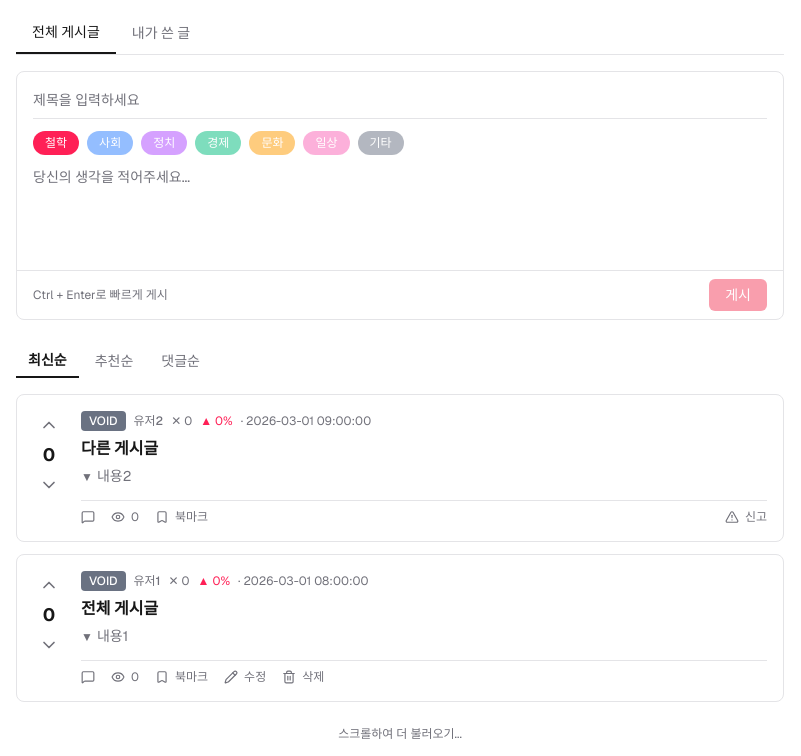
Body - 내가 쓴 게시글 기능 › "전체 게시글" 탭으로 돌아오면 PostForm이 다시 표시되어야 한다
The width and height of the screenshot is (801, 756).
Check: the button "전체 게시글" is shown, box x1=16 y1=12 x2=116 y2=54
Click the button "내가 쓴 글".
click(161, 33)  # box x1=116 y1=12 x2=206 y2=54
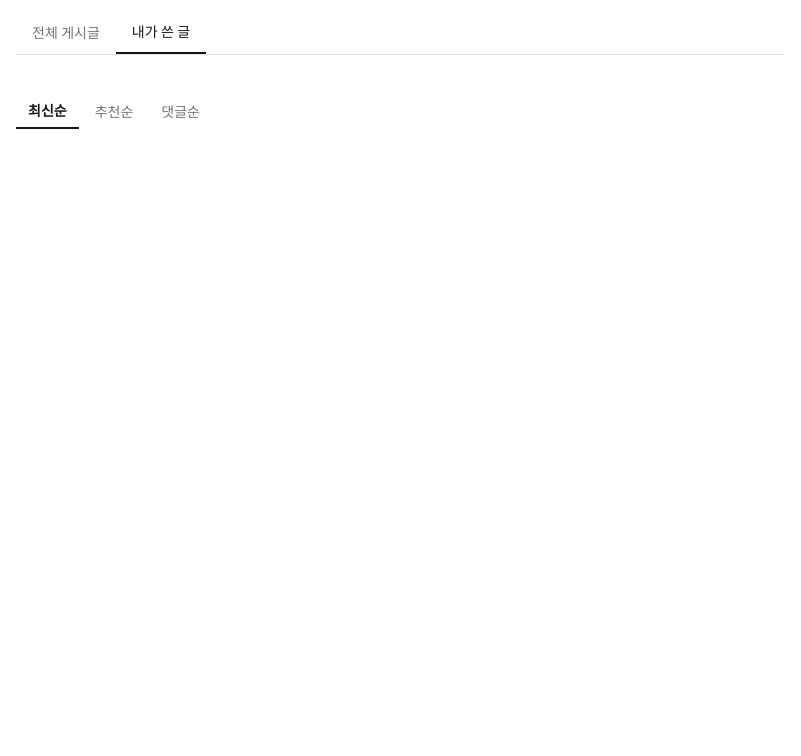
Click the button "전체 게시글".
click(66, 33)  # box x1=16 y1=12 x2=116 y2=54
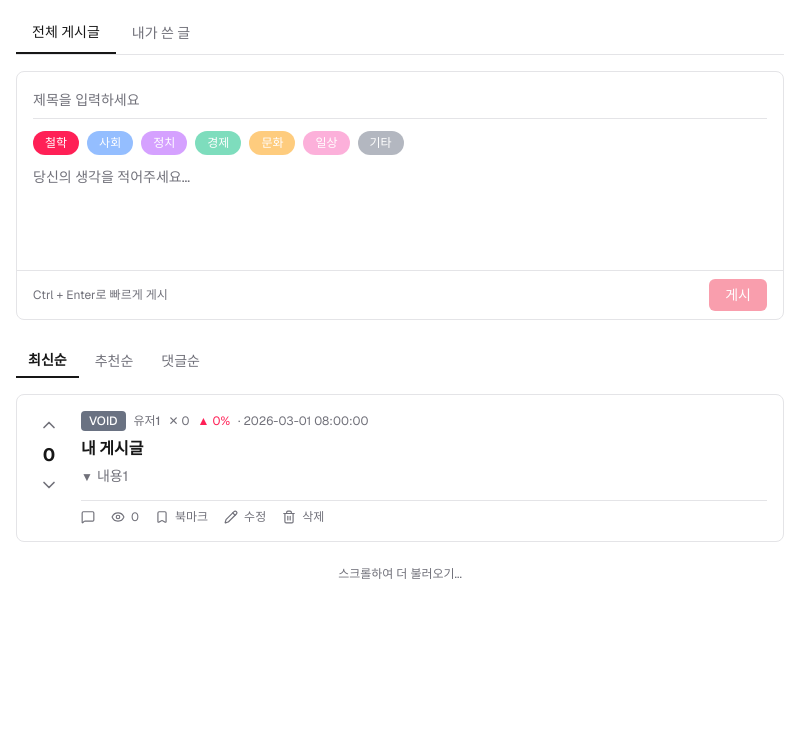
Check: the field with placeholder "제목을 입력하세요" is shown, box x1=33 y1=90 x2=767 y2=119
